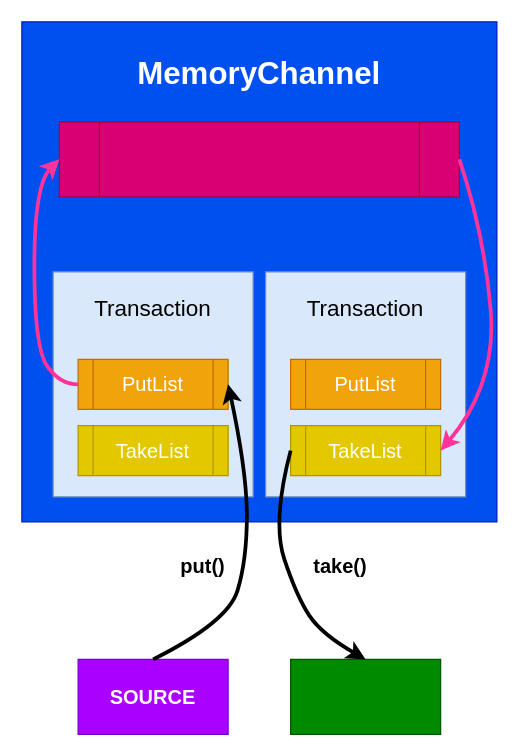
Some shapes in this 519 by 756 pixel diagram are drawn without their labels. Each missing label, with the centre of its shape:
"SINK" goes at [365,696].
"内存双端队列" goes at [258,159].
